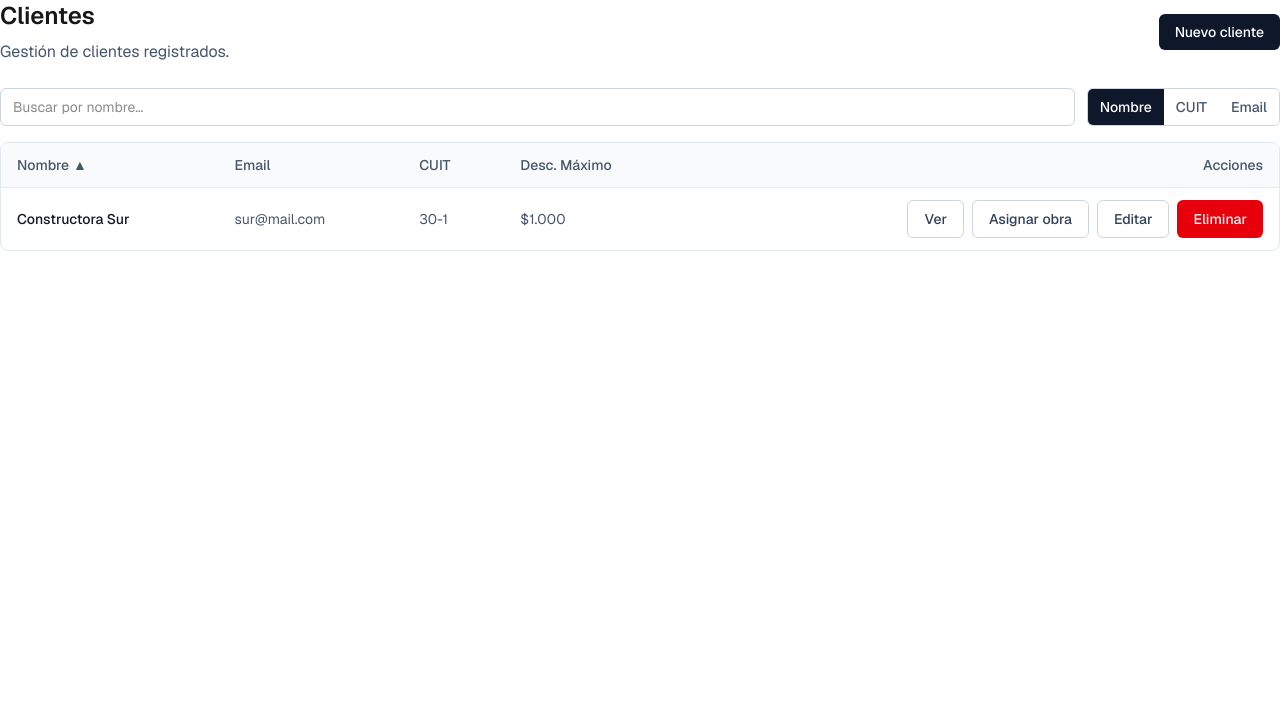
Scenario: borrar sin dialogos nativos › si el borrado falla lo avisa en la region en vivo (sin alert)
The width and height of the screenshot is (1280, 720).
Expected: the text "Constructora Sur" is shown, [1, 188, 218, 250]
Click the button "Eliminar" at (1220, 219), box [1178, 200, 1263, 238]
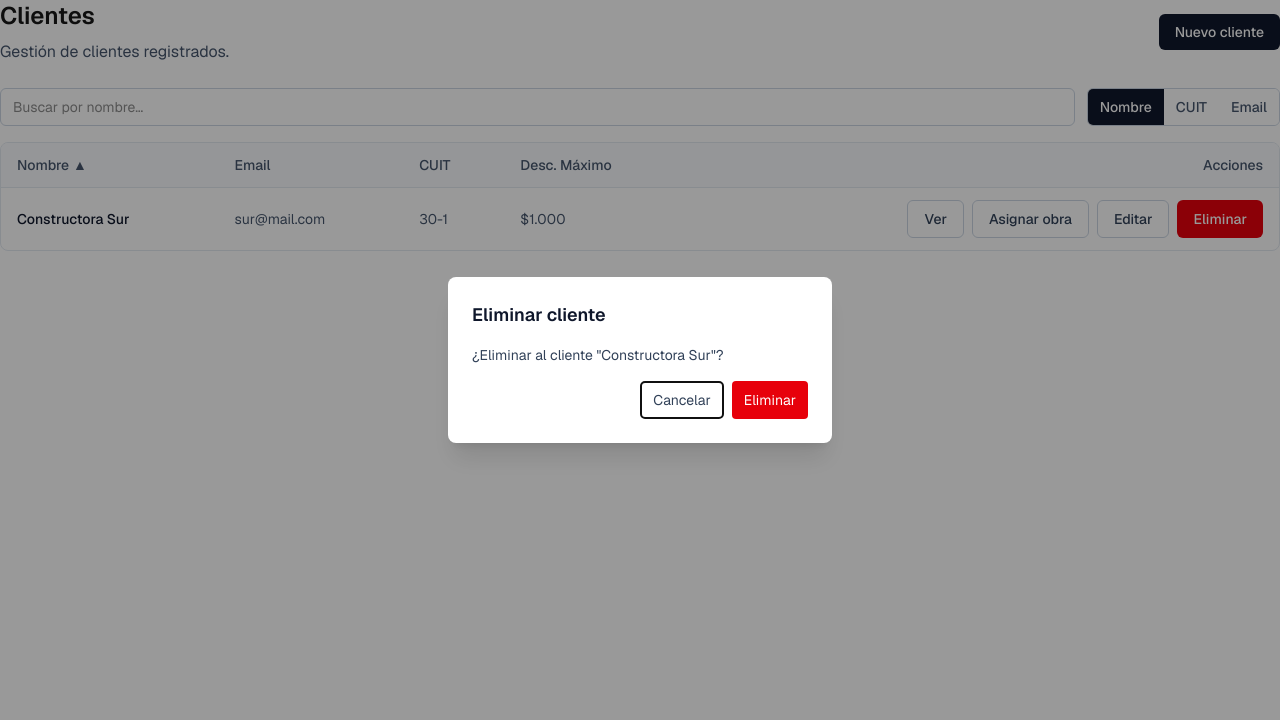
Click the button "Eliminar" at (770, 400), box [732, 381, 808, 419]
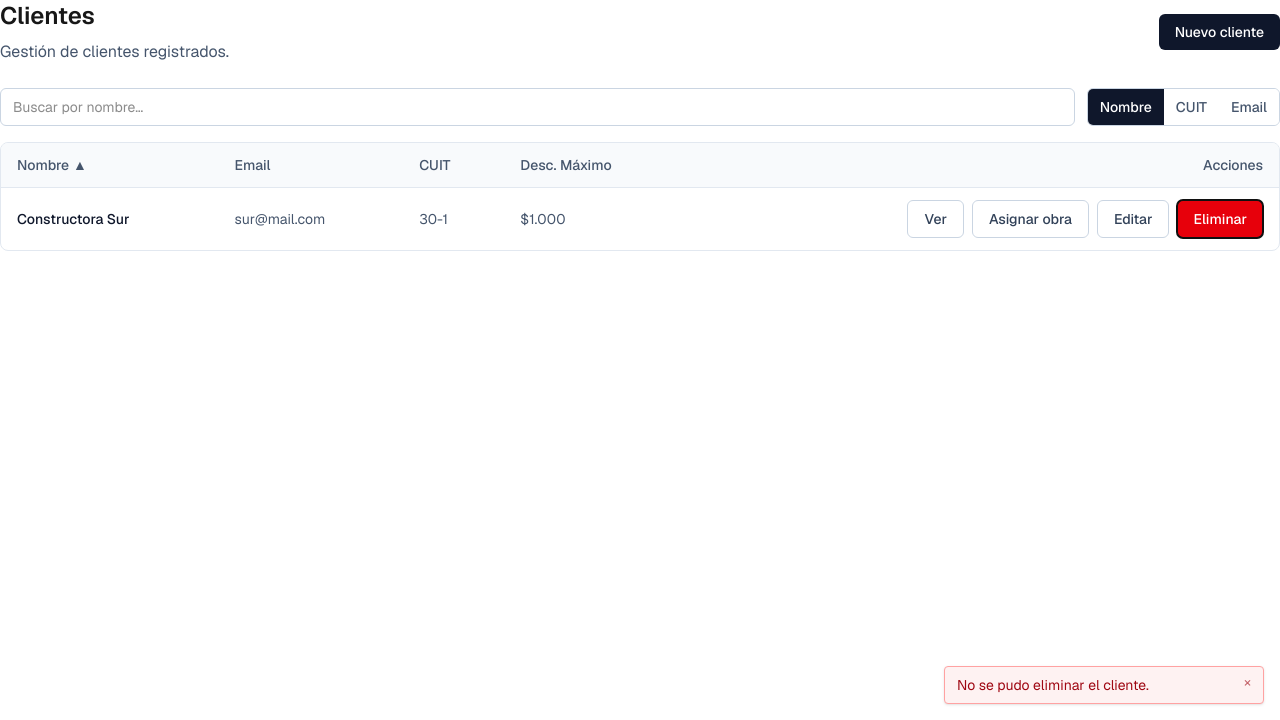
Expected: the message shows "No se pudo eliminar el cliente.", [957, 676, 1149, 694]
